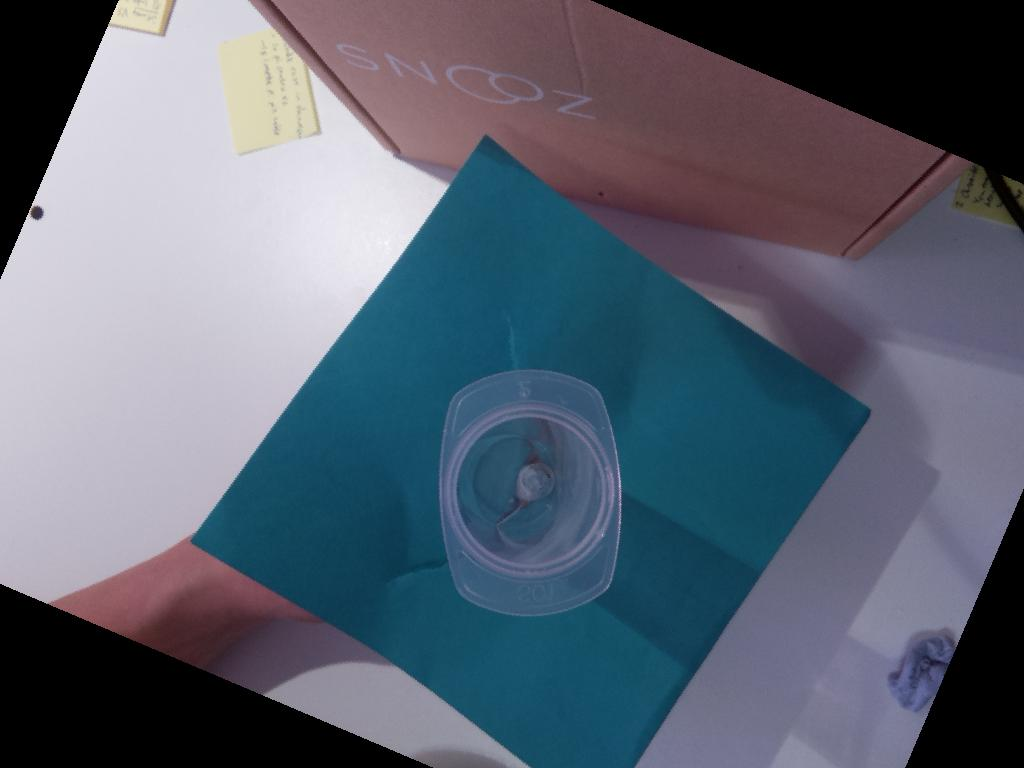clean: (438, 360, 631, 618)
